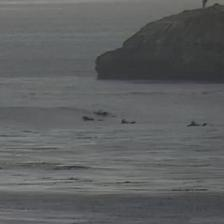surfer: (83, 116, 103, 121), (188, 121, 207, 126), (94, 110, 108, 116), (121, 119, 136, 124)
